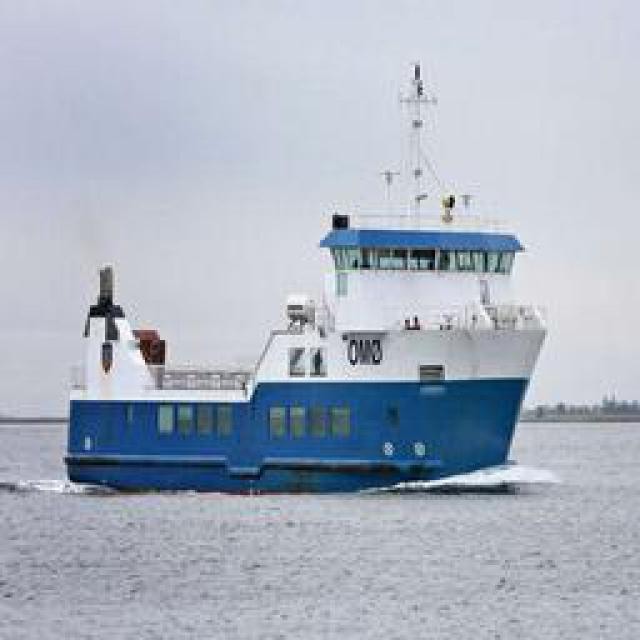Ship: (75, 176, 545, 489)
